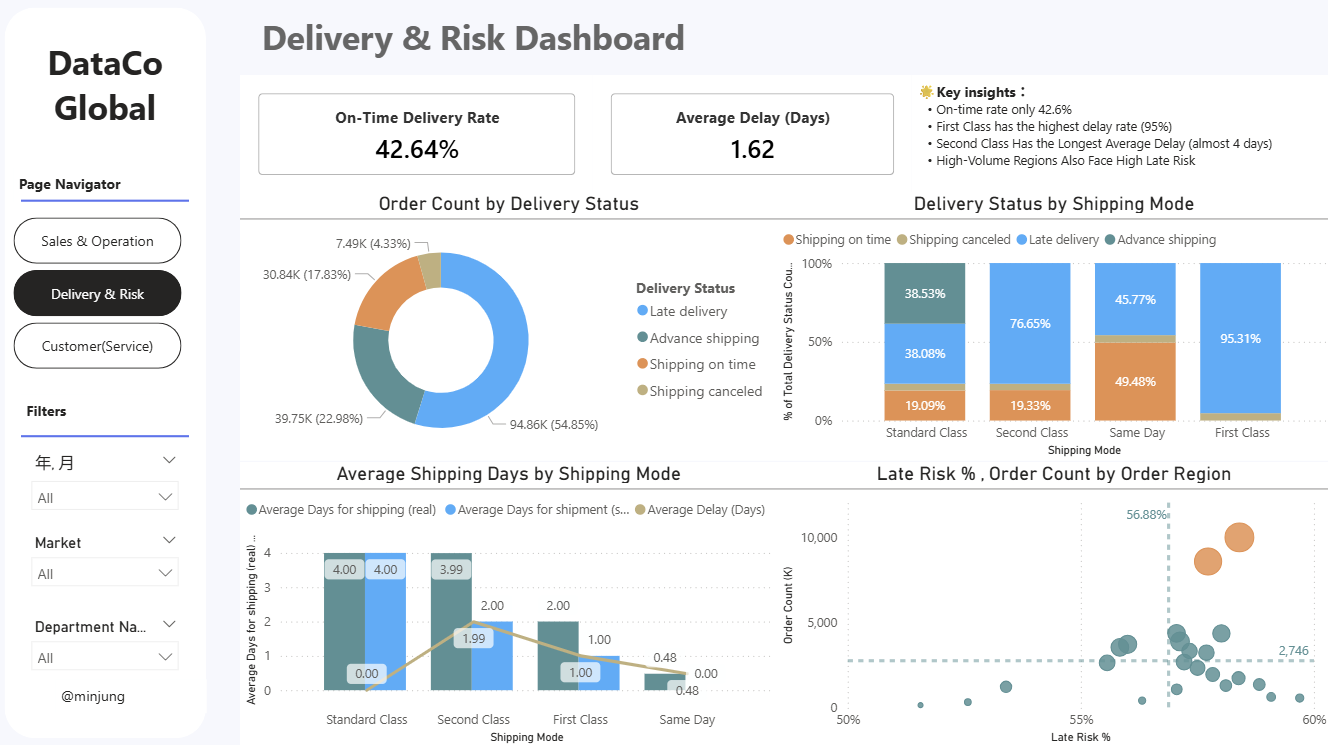

Layout of this report page (visuals, bound fields, positions):
{"tool":"powerbi","page":{"name":"Delivery & Risk","canvas":[1280,720],"ordinal":1},"visuals":[{"type":"shape","box":[16,16,192,696],"z":0},{"type":"textbox","box":[24,168,128,32],"z":1000},{"type":"shape","box":[32,176,160,48],"z":2000},{"type":"shape","box":[32,400,160,48],"z":3000},{"type":"textbox","box":[32,384,128,32],"z":4000},{"type":"textbox","box":[32,40,160,104],"z":5000},{"type":"textbox","box":[64,656,144,32],"z":6000},{"type":"cardVisual","fields":{"Data":["modified data.平均延遲天數"]},"box":[576,80,304,112],"z":7000},{"type":"slicer","fields":{"Values":["modified data.Market"]},"box":[32,512,160,64],"z":8000},{"type":"textbox","box":[256,16,480,64],"z":9000},{"type":"slicer","fields":{"Values":["Date Table.Date.變化.日期階層.年","Date Table.Date.變化.日期階層.月"]},"box":[32,432,160,80],"z":10000},{"type":"slicer","fields":{"Values":["modified data.Department Name"]},"box":[32,592,160,64],"z":11000},{"type":"cardVisual","fields":{"Data":["modified data.準時交貨率(OTD%)"]},"box":[240,80,336,112],"z":12000},{"type":"donutChart","title":"Order Count by Delivery Status","fields":{"Category":["modified data.Delivery Status"],"Y":["CountNonNull(modified data.Order Id)"]},"box":[240,192,512,256],"z":13000},{"type":"hundredPercentStackedColumnChart","title":"Delivery Status by Shipping Mode","fields":{"Y":["CountNonNull(modified data.Delivery Status)"],"Category":["modified data.Shipping Mode"],"Series":["modified data.Delivery Status"]},"box":[752,192,528,256],"z":14000},{"type":"lineClusteredColumnComboChart","title":"Average Shipping Days by Shipping Mode","fields":{"Category":["modified data.Shipping Mode"],"Y":["Avg(modified data.Days for shipping (real))","Avg(modified data.Days for shipment (scheduled))"],"Y2":["Avg(modified data.物流天數差)"]},"box":[240,448,512,272],"z":15000},{"type":"scatterChart","title":"Late Risk % , Order Count by Order Region","fields":{"Category":["modified data.Market","modified data.Order Region"],"X":["modified data.Late Risk %"],"Y":["Count(modified data.Order Id)"],"Size":["modified data.Total Sales"]},"box":[752,448,528,272],"z":16000},{"type":"pageNavigator","box":[24,216,160,144],"z":17000},{"type":"textbox","box":[880,80,400,112],"z":18000}]}

Visuals, with their boxes in screenshot pixels (x1, y1, x2, y2), scaled from the page's 1280x720 canvas onto the 1328x745 screenshot:
shape: [17,17,216,737]
textbox: [25,174,158,207]
shape: [33,182,199,232]
shape: [33,414,199,464]
textbox: [33,397,166,430]
textbox: [33,41,199,149]
textbox: [66,679,216,712]
cardVisual - modified data.平均延遲天數: [598,83,913,199]
slicer - modified data.Market: [33,530,199,596]
textbox: [266,17,764,83]
slicer - Date Table.Date.變化.日期階層.年 x Date Table.Date.變化.日期階層.月: [33,447,199,530]
slicer - modified data.Department Name: [33,613,199,679]
cardVisual - modified data.準時交貨率(OTD%): [249,83,598,199]
"Order Count by Delivery Status" donutChart: [249,199,780,464]
"Delivery Status by Shipping Mode" hundredPercentStackedColumnChart: [780,199,1327,464]
"Average Shipping Days by Shipping Mode" lineClusteredColumnComboChart: [249,464,780,744]
"Late Risk % , Order Count by Order Region" scatterChart: [780,464,1327,744]
pageNavigator: [25,224,191,373]
textbox: [913,83,1327,199]
